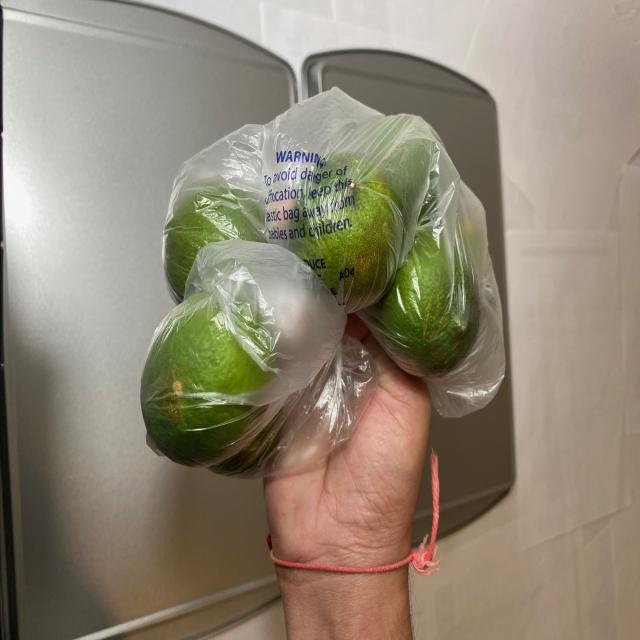lemon: (137, 111, 483, 485)
